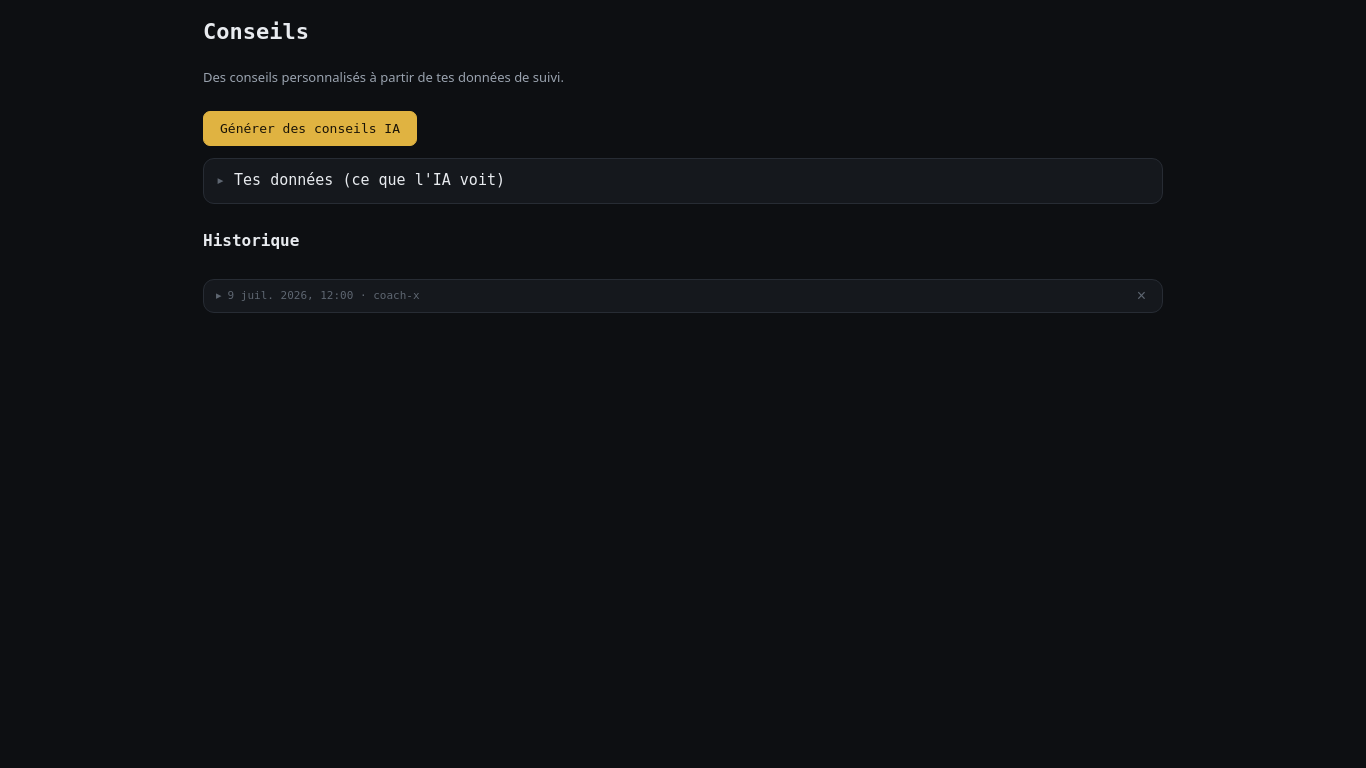
Scenario: AdvicesPage — delete confirm & archive collapse (B-213/B-214) › confirms before deleting an archived advice (B-213)
Click the button named "Supprimer". click: (1141, 296)
box: x1=1133 y1=288 x2=1150 y2=304
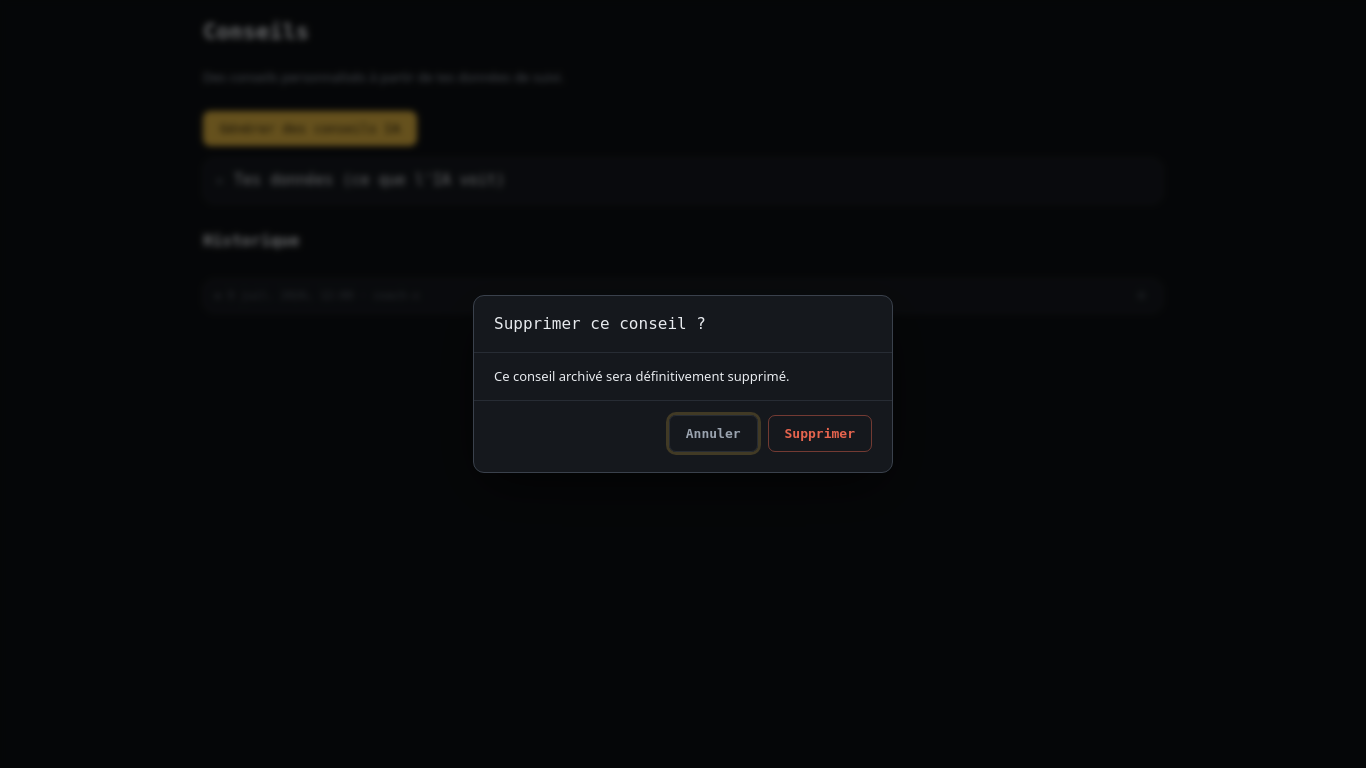
Expected: the text "Ce conseil archivé sera définitivement supprimé." is shown, x1=494 y1=368 x2=790 y2=386
Cancel → nothing deleted, dialog closes.
Click the button "Annuler". click: (713, 434)
box: x1=669 y1=415 x2=758 y2=452
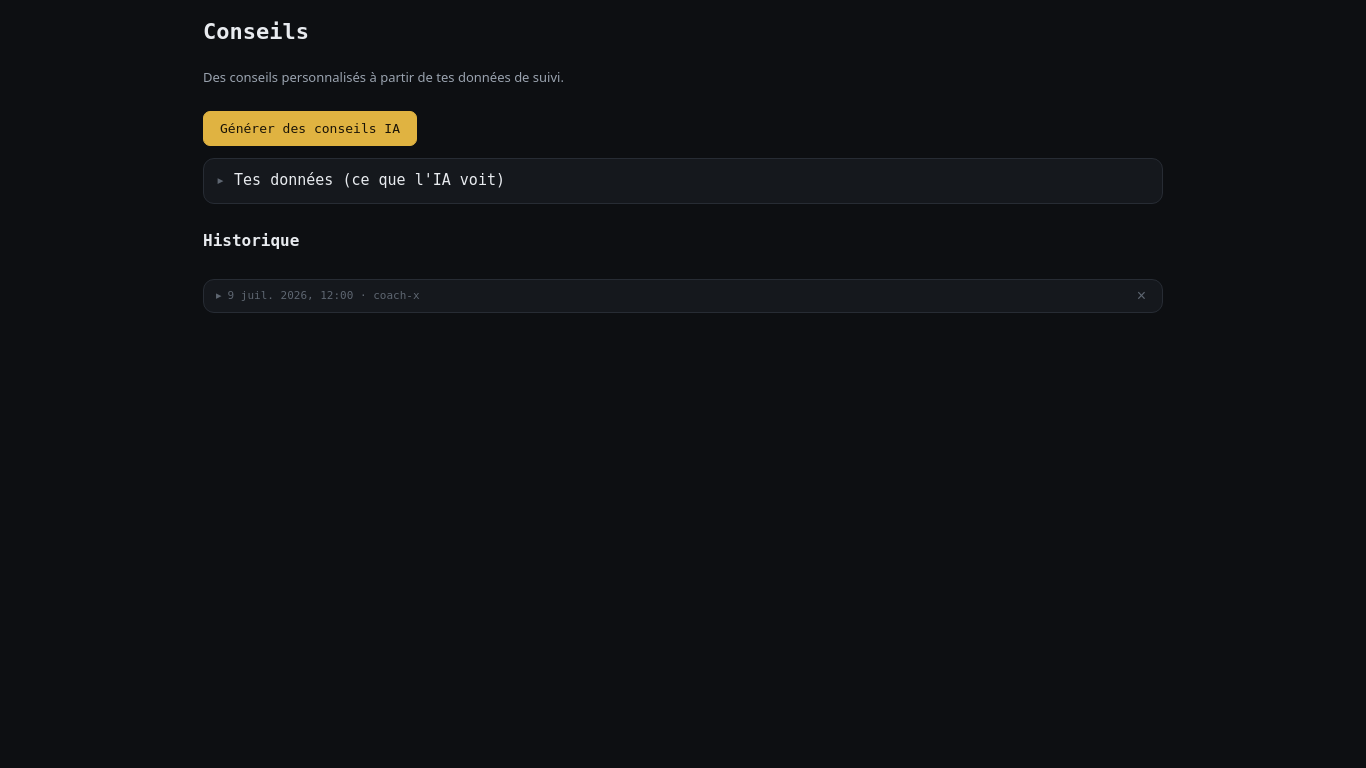
× again, then the dialog's Delete → the DELETE fires and the archive empties.
Click the button named "Supprimer". click: (1141, 296)
box: x1=1133 y1=288 x2=1150 y2=304
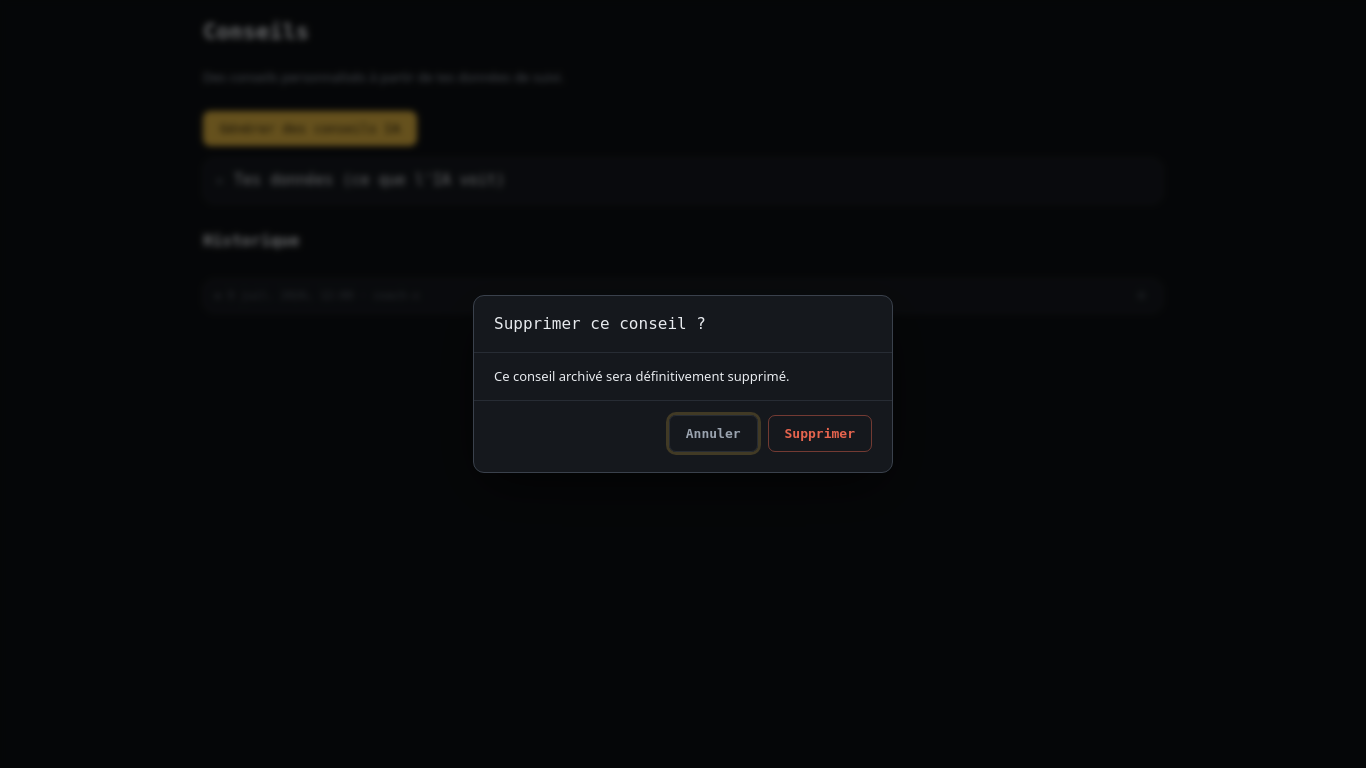
Click the button "Supprimer". click: (820, 434)
box: x1=768 y1=415 x2=872 y2=452
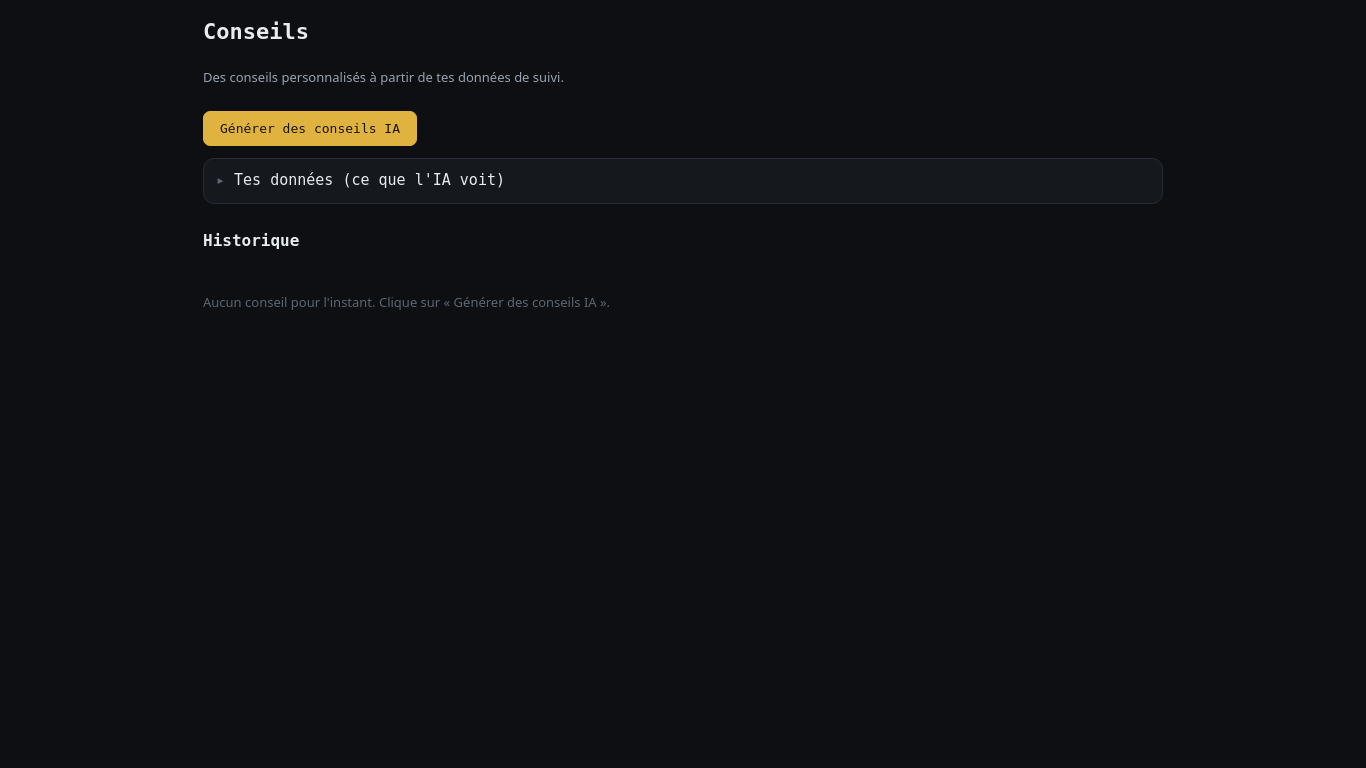
Expected: the text "Aucun conseil pour l'instant. Clique sur « Générer des conseils IA »." is shown, x1=203 y1=293 x2=610 y2=311
